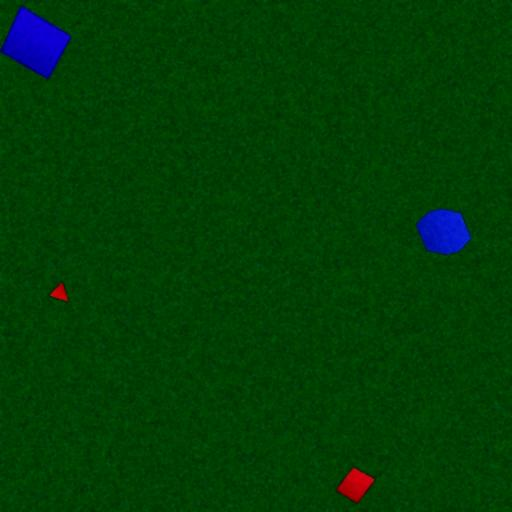BLUE_SQUARE: (0, 5, 72, 81)
RED_SQUARE: (334, 466, 376, 505)
